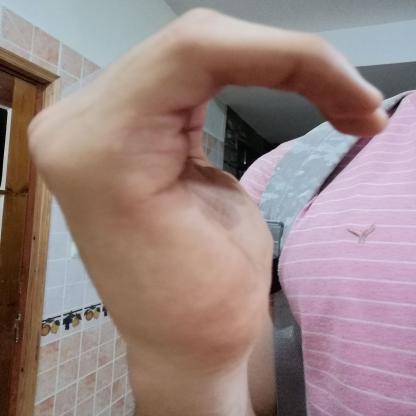HAA: (13, 1, 401, 364)
